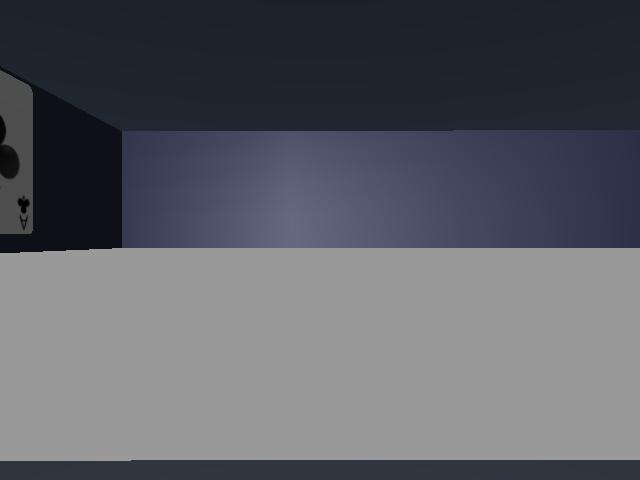spade: (0, 71, 32, 233)
